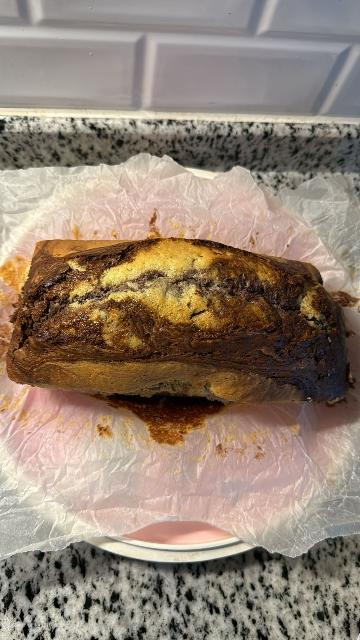Organik: (9, 233, 344, 414)
